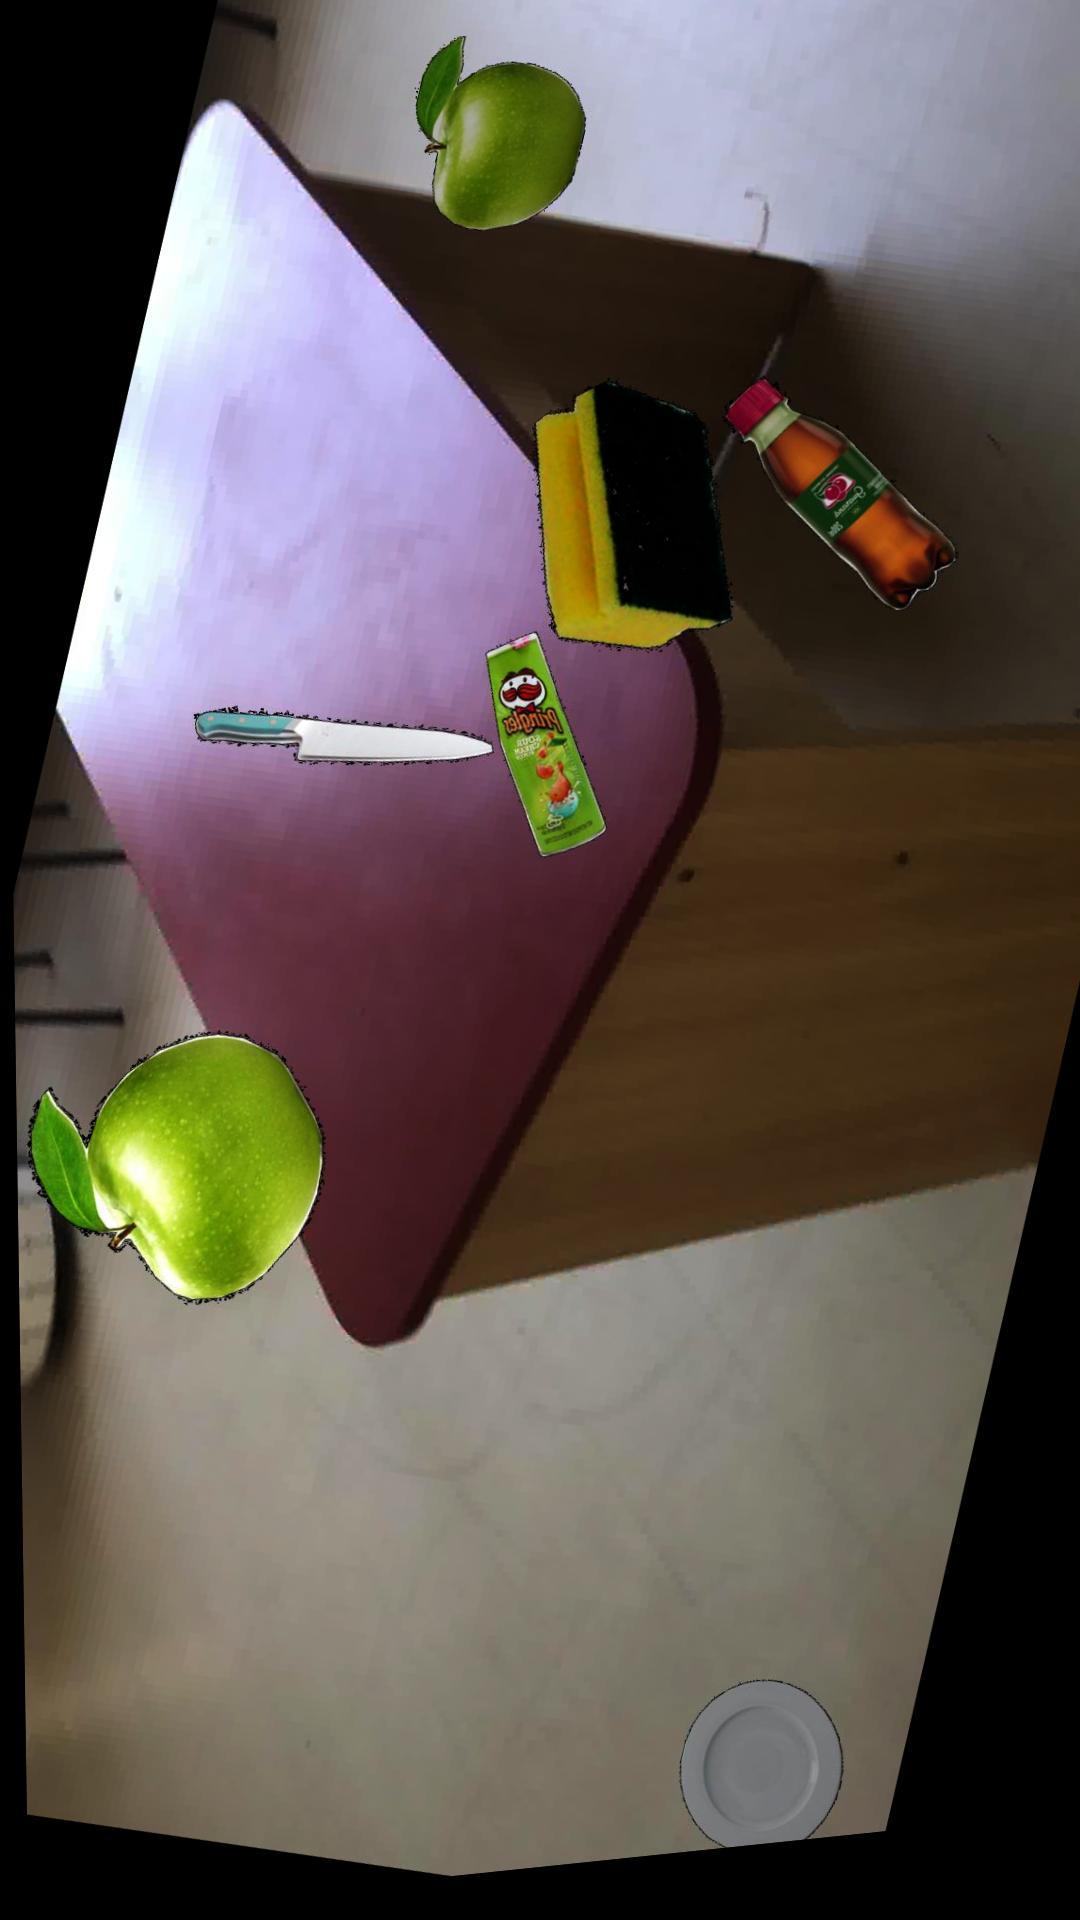green apple: (25, 1034, 323, 1307), (417, 45, 587, 240)
guarana: (724, 392, 957, 629)
knife: (194, 709, 493, 771)
plate: (675, 1695, 839, 1863)
pringles: (485, 642, 607, 868)
sponge: (533, 393, 733, 662)
